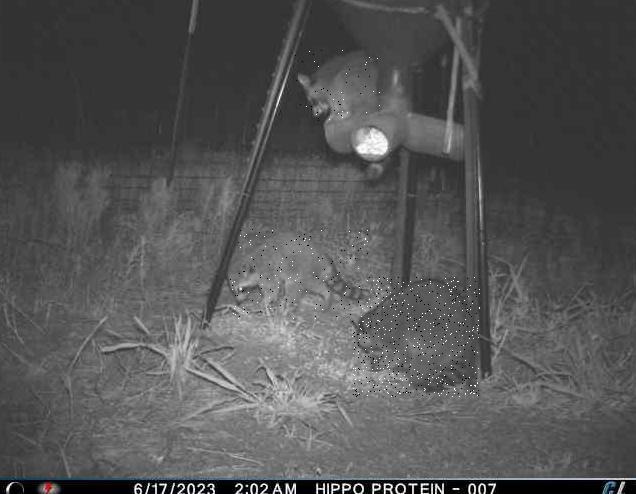Raccoon: (352, 278, 480, 398), (229, 230, 368, 320), (294, 49, 380, 123)
